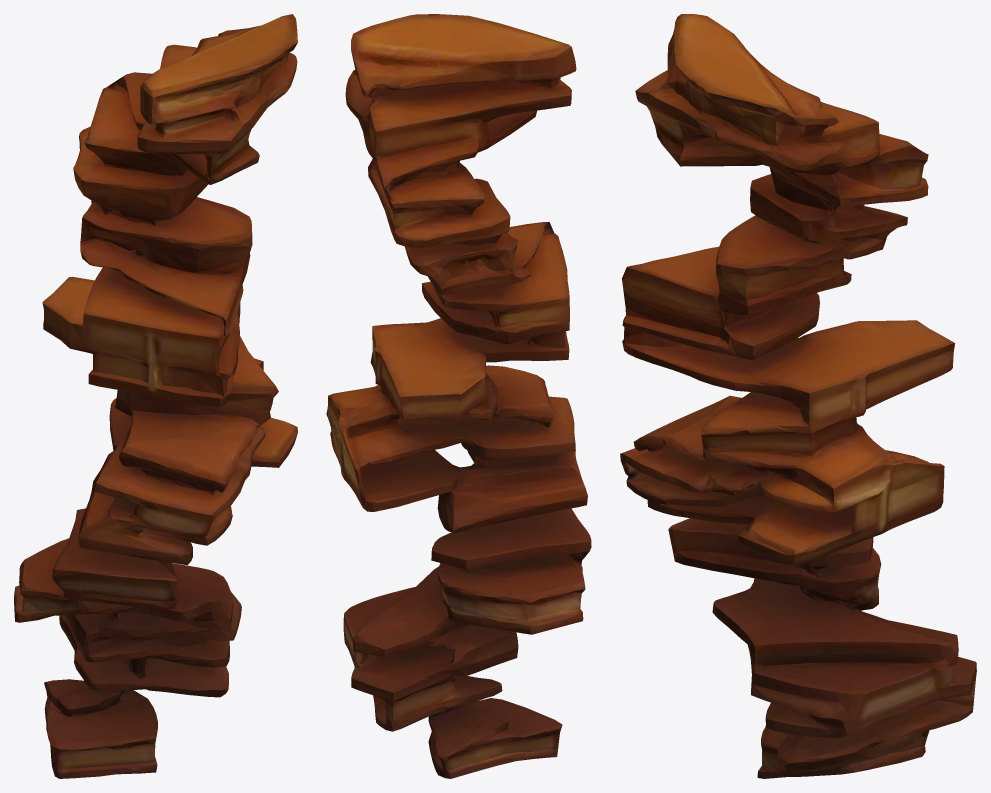
Rendered from spiraling_books.glb.
3 renders of one model, left to right at view 1: azimuth 30°, elevation 25°; view 2: azimuth 150°, elevation 25°; view 3: azimuth 270°, elevation 25°, orthographic. The views are drawn at different scales.
Visible parts, largest first — view 1: world; view 2: world; view 3: world.
Part boxes in pixels (box(x1,y1,x2,y2)): world: box(14, 14, 297, 778); world: box(326, 14, 591, 778); world: box(620, 14, 976, 778).
Size of the model in its own units: 0.4013 by 0.9988 by 0.4328.
Materials: 1 (1 with a texture image).
